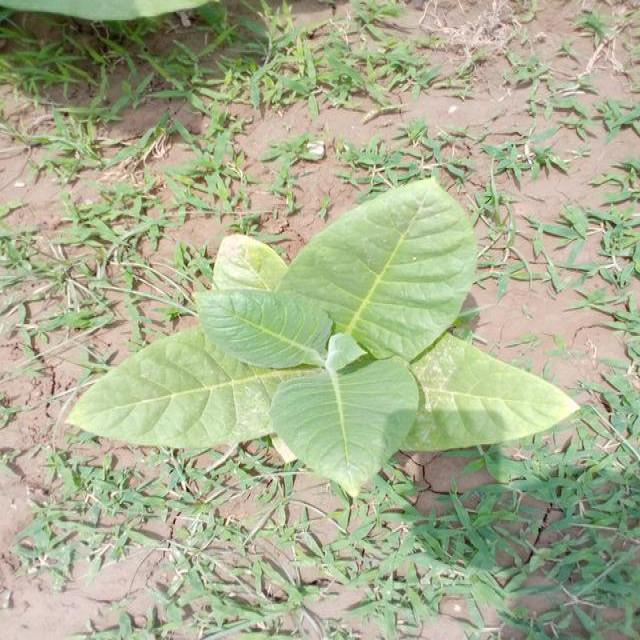crop: (87, 184, 570, 500)
